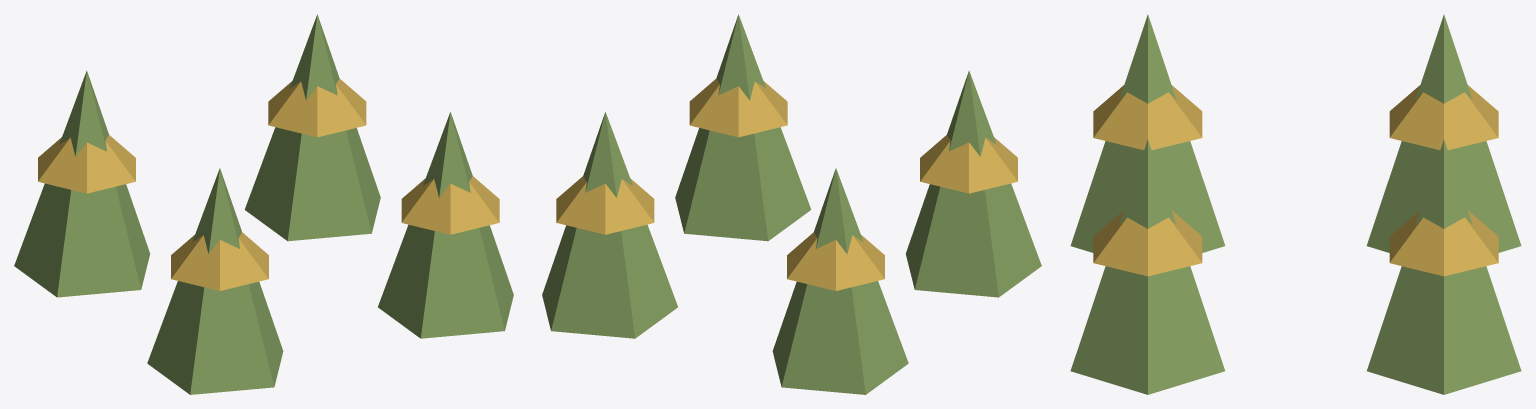
File: coffee_ripe.glb
3 views of the same model, side by side, from view 1: azimuth 30°, elevation 25°; view 2: azimuth 150°, elevation 25°; view 3: azimuth 270°, elevation 25° (orthographic). The views are drawn at different scales.
Bounding box in the file's own units: 1.2 × 0.66 × 1.22.
